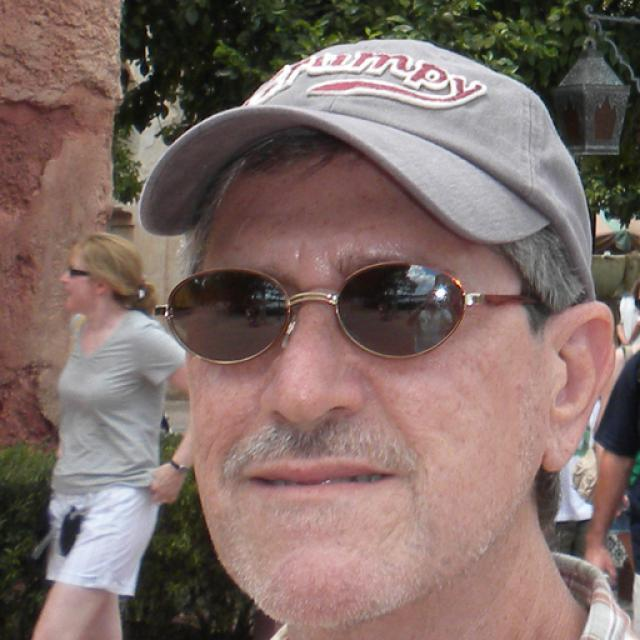disgust: (181, 140, 540, 632)
